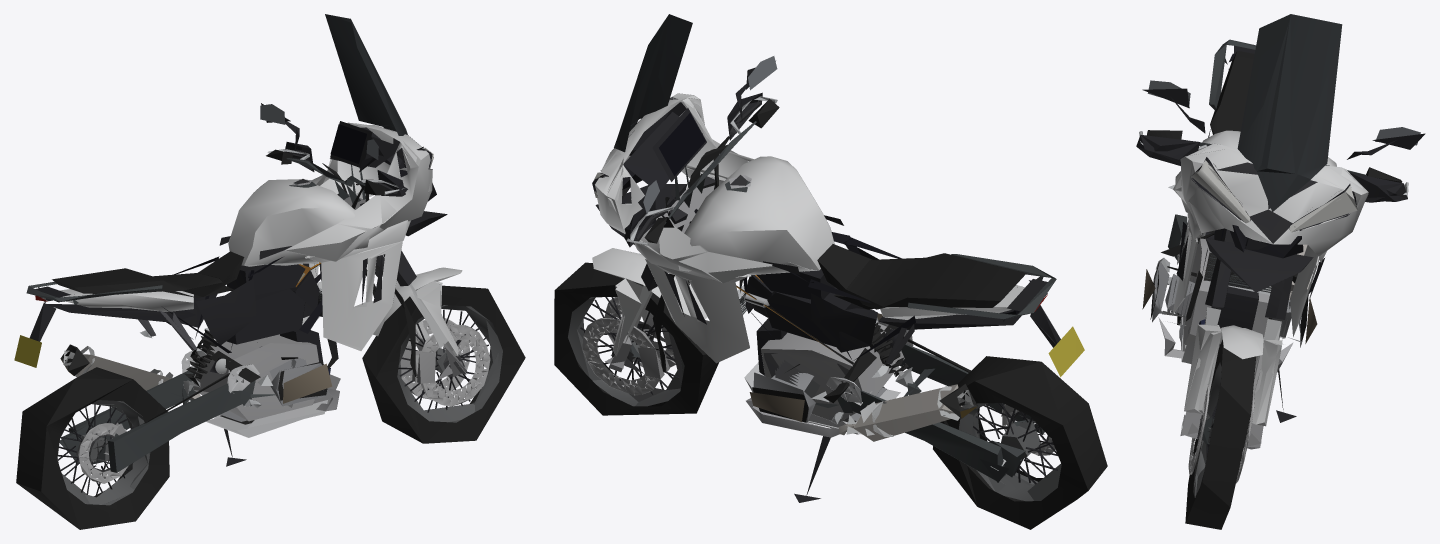
File: SM_Prop_house_bike_5_LOD1.glb
3 views of the same model, side by side, from view 1: azimuth 30°, elevation 25°; view 2: azimuth 150°, elevation 25°; view 3: azimuth 270°, elevation 25° (orthographic). The views are drawn at different scales.
Visible parts, largest first — view 1: SM_Prop_house_bike_5_LOD1; view 2: SM_Prop_house_bike_5_LOD1; view 3: SM_Prop_house_bike_5_LOD1.
Boxes of the visible parts, <box> form: SM_Prop_house_bike_5_LOD1: <box>14,14,525,529</box>; SM_Prop_house_bike_5_LOD1: <box>554,14,1107,529</box>; SM_Prop_house_bike_5_LOD1: <box>1136,14,1425,529</box>.
Bounding box in the file's own units: 2.2 × 1.77 × 0.9807.
